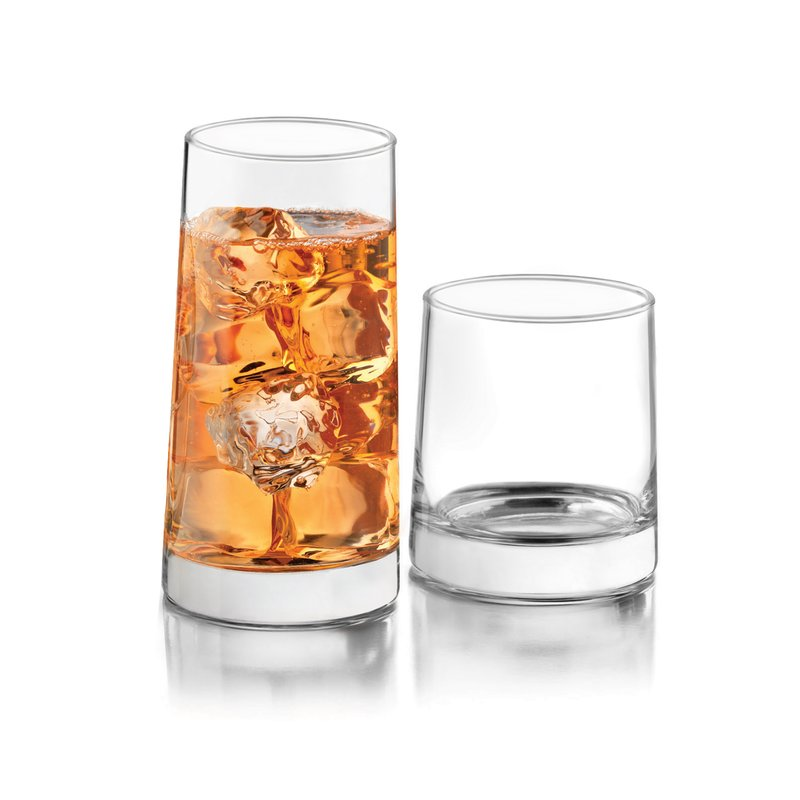Nonrec_Glass: (143, 79, 430, 639), (363, 249, 702, 635)
